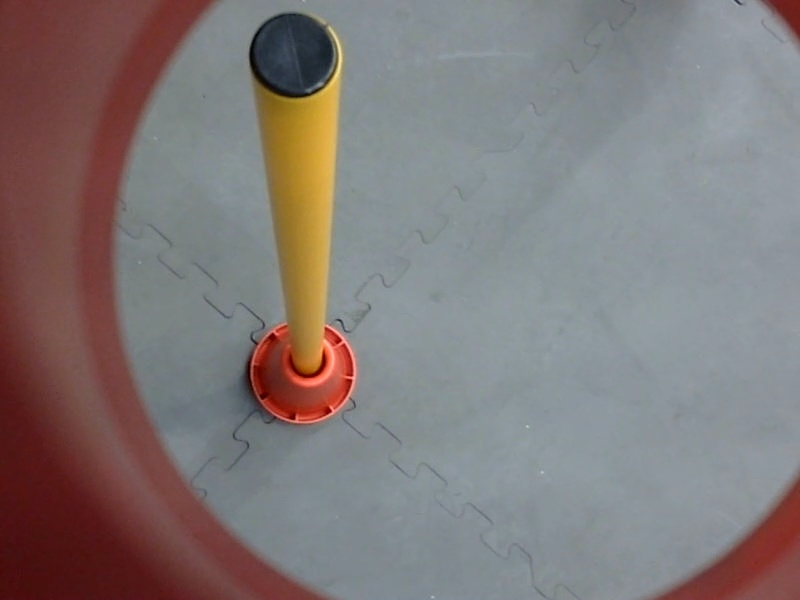tip: (240, 2, 351, 110)
